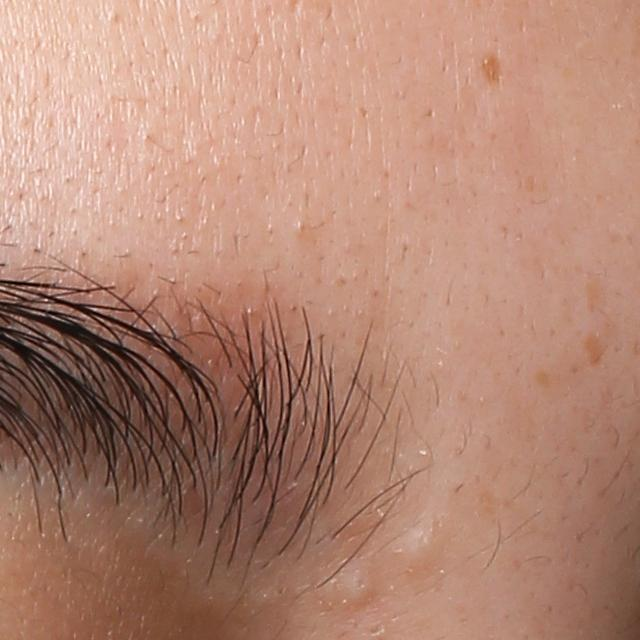comedo: (393, 527, 438, 570), (340, 559, 376, 604)
melasma: (482, 49, 504, 83)
